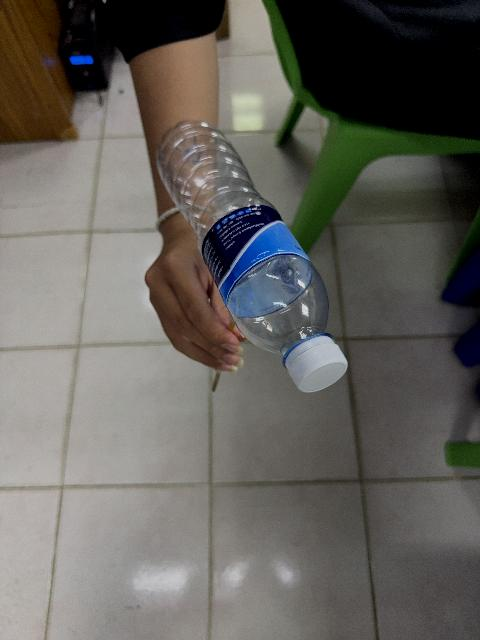bottle: (157, 122, 347, 391)
